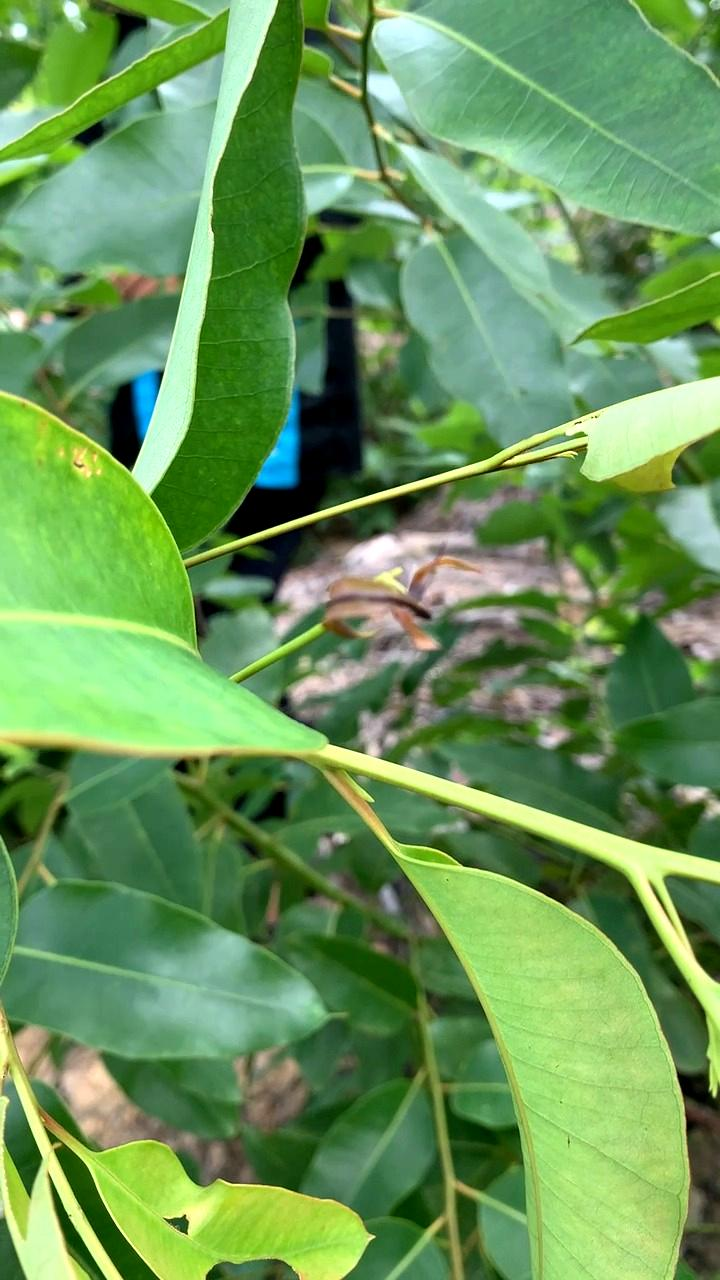Helopeltis-Withered Sprout: (325, 561, 489, 649)
